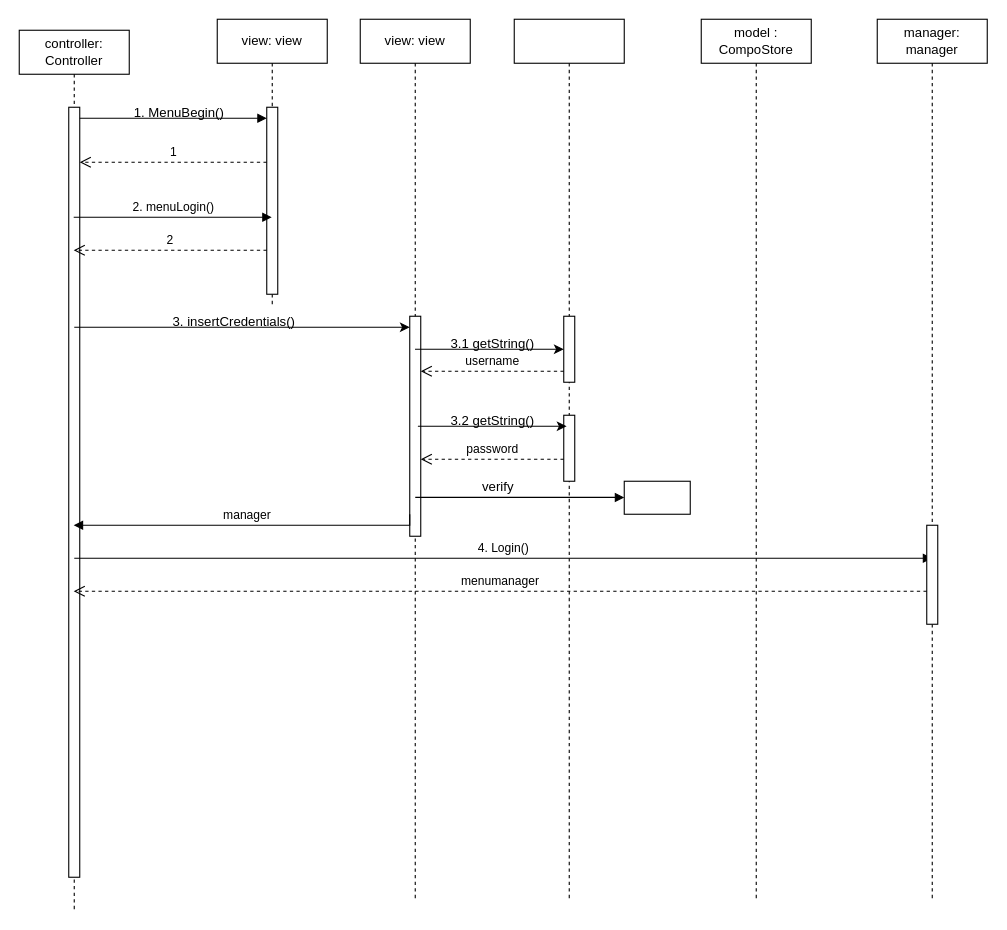
Image size: 1007x930. Some labels were removed from this diagram. Each missing label, with the box of its shape:
: utils: (513, 18, 624, 899)
manger: manager: (623, 480, 690, 514)
